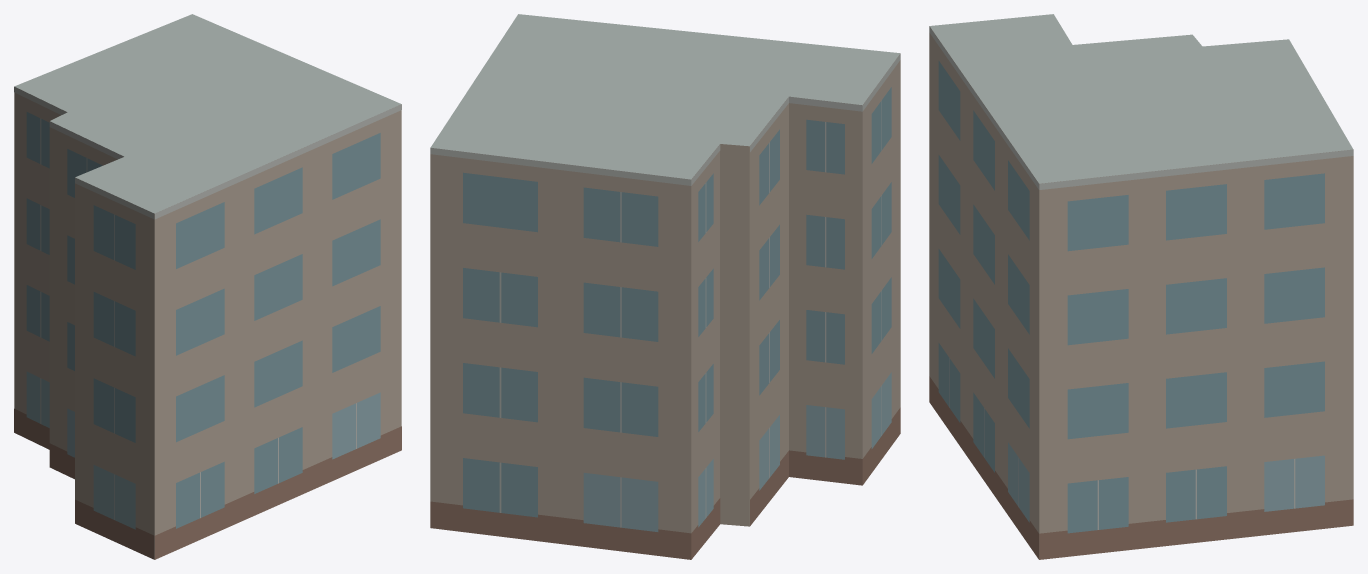
Rendered from survey-upis-33023967.glb.
3 views of the same model, side by side, from view 1: azimuth 30°, elevation 25°; view 2: azimuth 150°, elevation 25°; view 3: azimuth 270°, elevation 25° (orthographic). The views are drawn at different scales.
Visible parts, largest first — view 1: survey-upis-33023967.tmp; view 2: survey-upis-33023967.tmp; view 3: survey-upis-33023967.tmp.
Boxes of the visible parts, x1=… form: survey-upis-33023967.tmp: x1=14, y1=14, x2=401, y2=559; survey-upis-33023967.tmp: x1=430, y1=14, x2=900, y2=559; survey-upis-33023967.tmp: x1=929, y1=14, x2=1353, y2=559.
Size of the model in its own units: 13.85 by 14.3 by 14.62.
